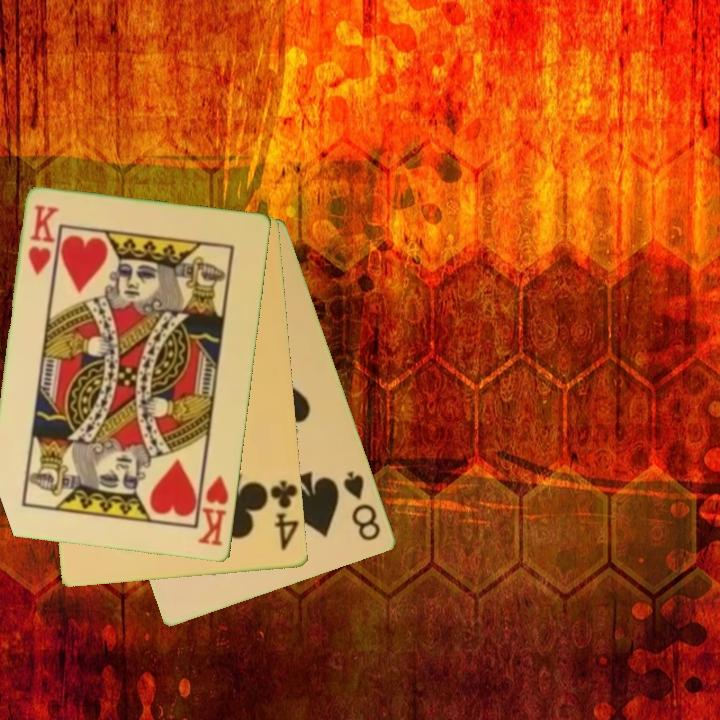4c: (267, 477, 302, 554)
8s: (340, 468, 384, 544)
Kh: (194, 466, 232, 549), (25, 202, 62, 279)
